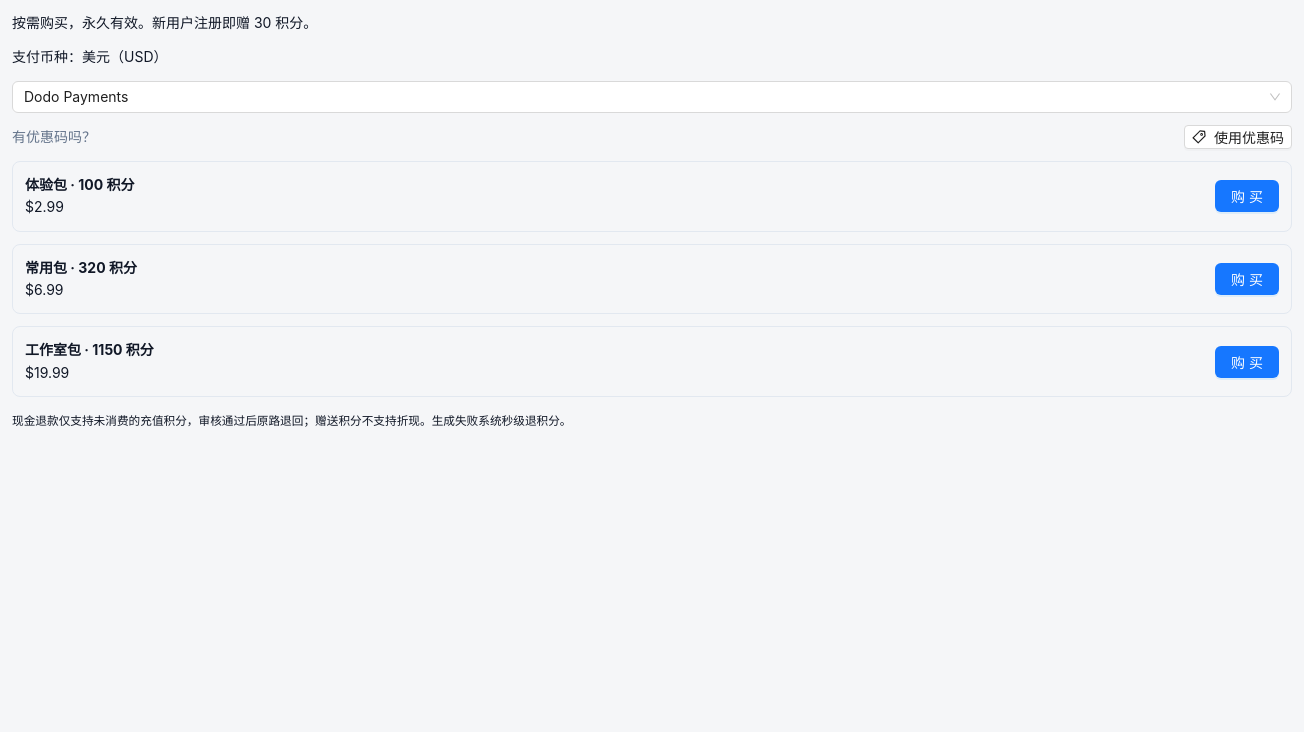
Scenario: 验证折扣代码 › 优惠变化导致下单失败后清除报价，并要求重新验证
This screenshot has width=1304, height=732.
Expected: the text "支付币种：美元（USD）" is shown, top-left (12, 48), bottom-right (168, 65)
Click the button "使用优惠码". click: (1238, 137)
box: top-left (1184, 125), bottom-right (1292, 149)
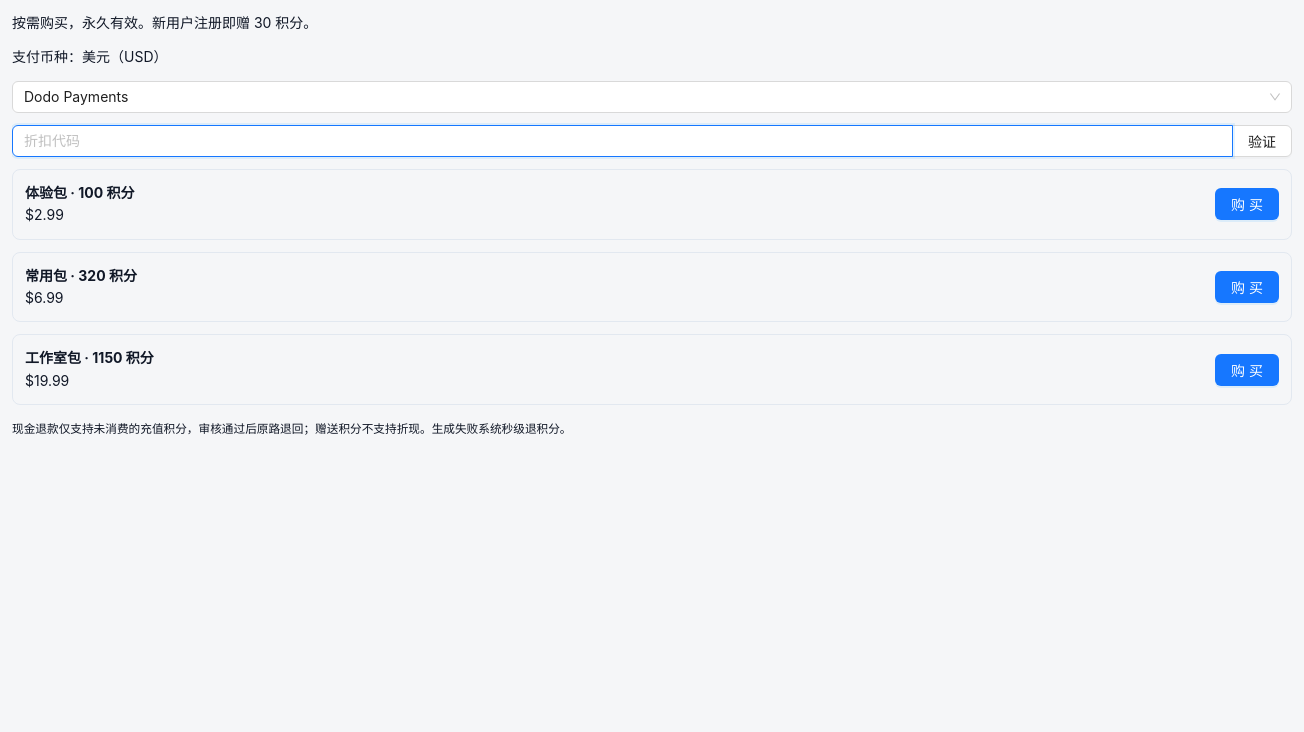
Type " aigc10 " into the field labelled "折扣代码". click: (622, 141)
box: top-left (12, 125), bottom-right (1233, 157)
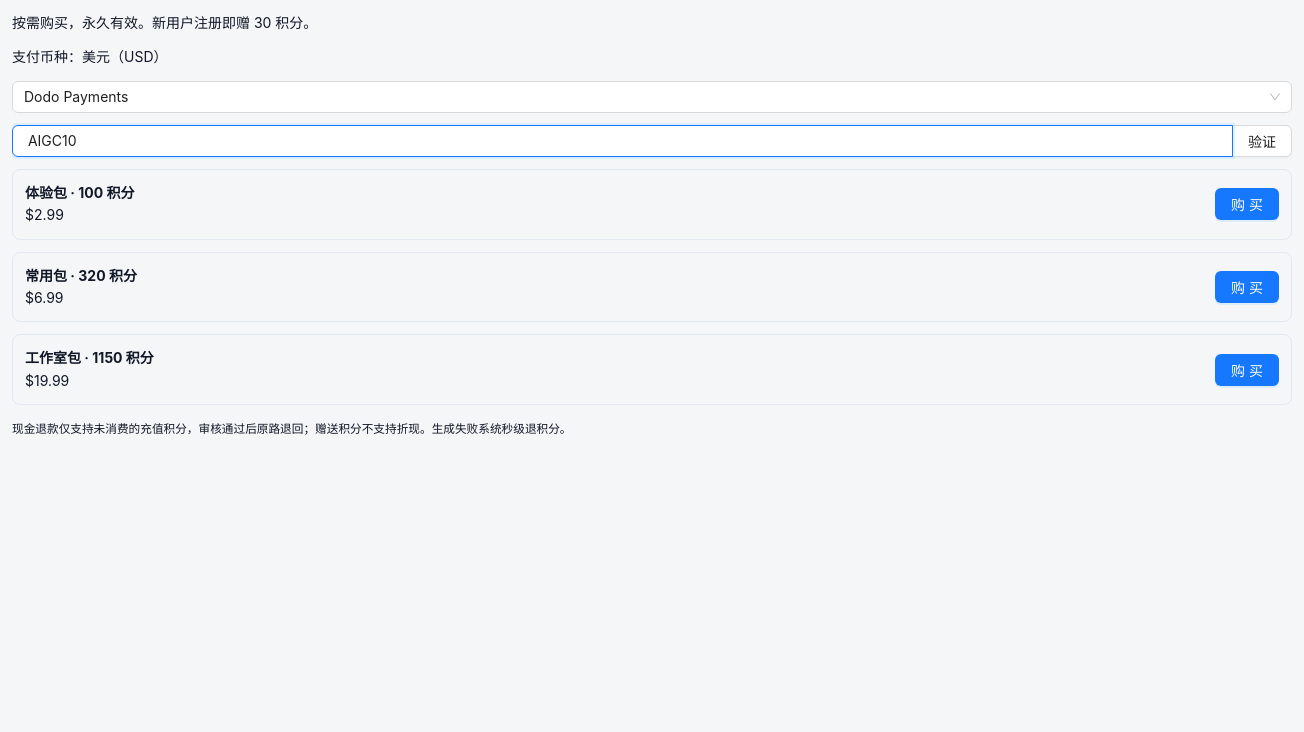
Click the button "验证". click: (1262, 141)
box: top-left (1232, 125), bottom-right (1292, 157)
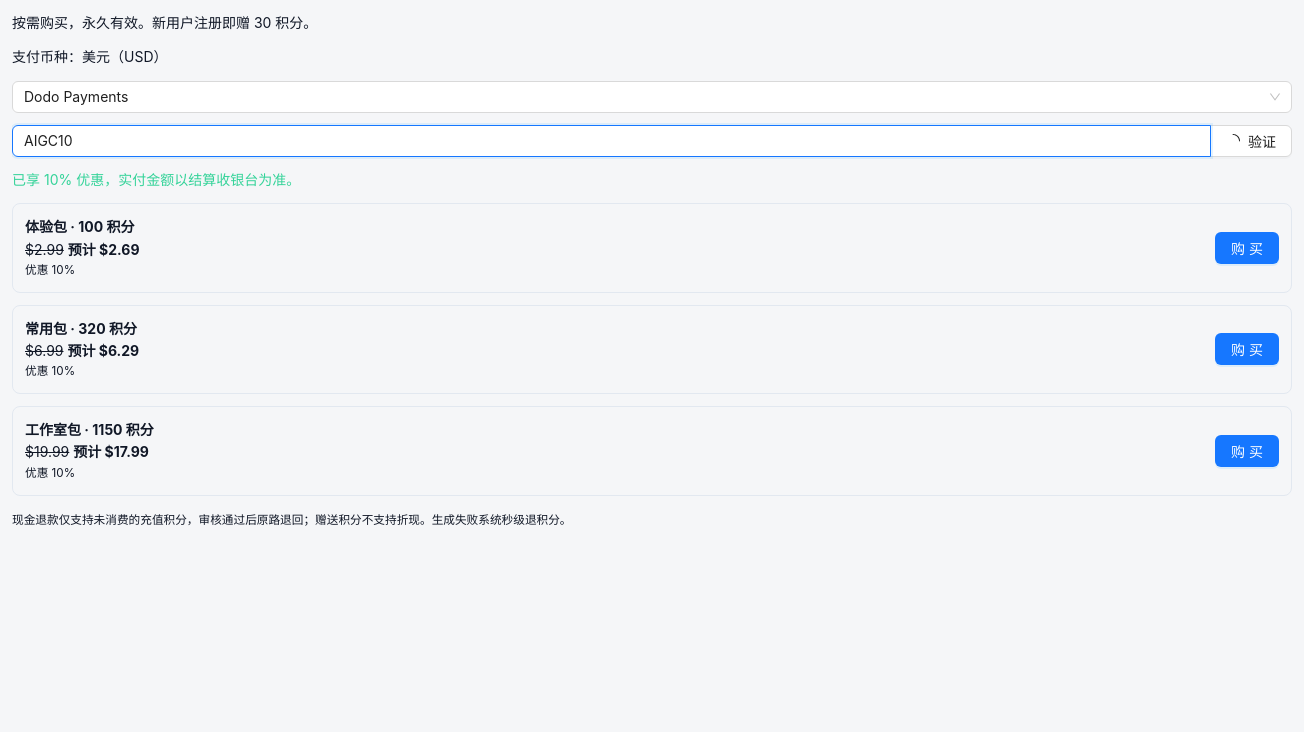
Result: the text "已享 10% 优惠，实付金额以结算收银台为准。" is shown at top-left (12, 171), bottom-right (300, 188)
Click the button "购 买" in the row of "$2.69". click: (1247, 248)
box: top-left (1215, 232), bottom-right (1279, 264)
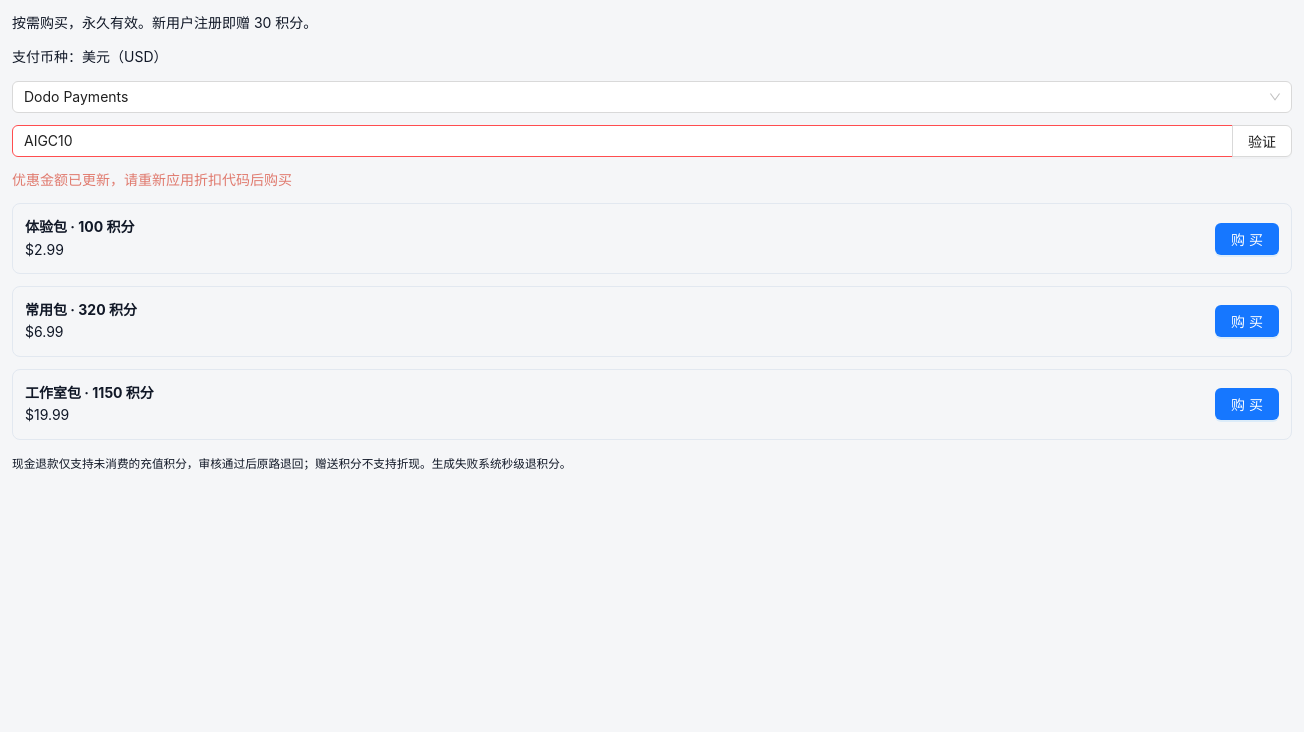
Result: the text "优惠金额已更新，请重新应用折扣代码后购买" is shown at top-left (12, 171), bottom-right (292, 188)
Result: the text "预计 $2.69" is gone
